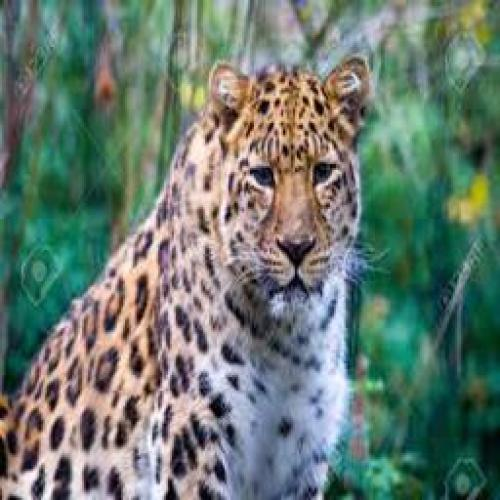amur_leopard-endangered: (0, 54, 371, 500)
